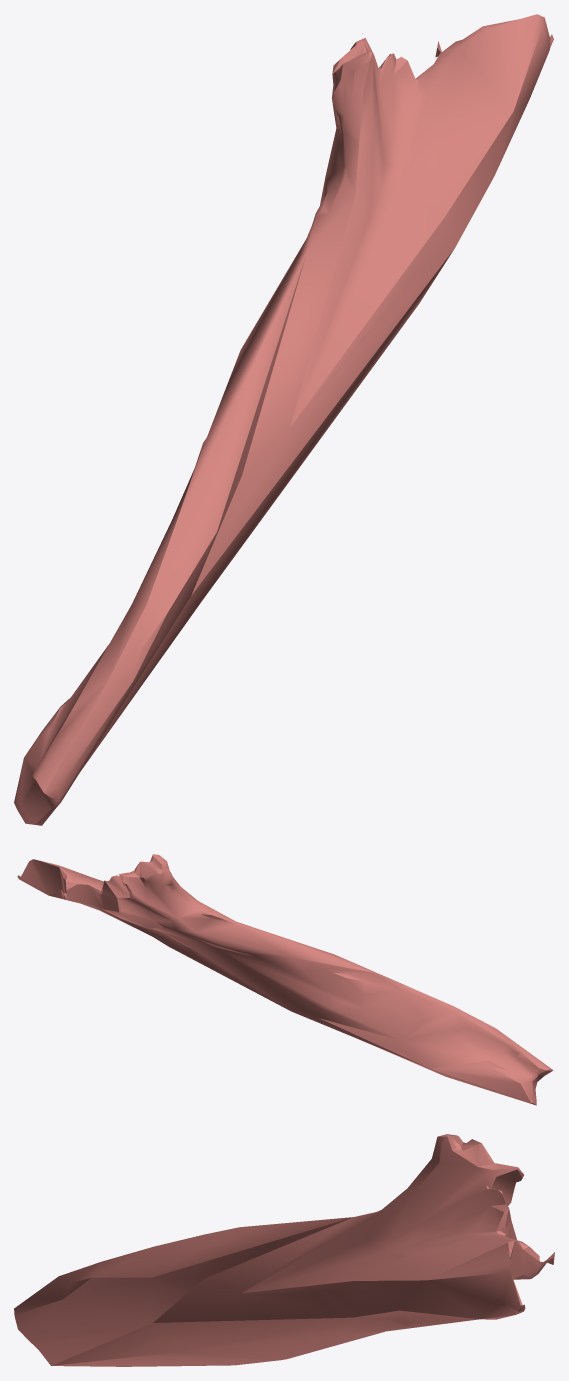
The model's file is fma37389_fj1469.glb.
The picture shows the model from 3 angles, top to bottom: view 1: azimuth 30°, elevation 25°; view 2: azimuth 150°, elevation 25°; view 3: azimuth 270°, elevation 25°; orthographic projection. The views are drawn at different scales.
Parts seen in each view (by area): view 1: FMA37389_FJ1469; view 2: FMA37389_FJ1469; view 3: FMA37389_FJ1469.
Boxes of the visible parts, x1=… form: FMA37389_FJ1469: x1=14, y1=14, x2=553, y2=825; FMA37389_FJ1469: x1=17, y1=854, x2=553, y2=1105; FMA37389_FJ1469: x1=14, y1=1134, x2=554, y2=1366.
Bounding box in the file's own units: 0.0452 × 0.0275 × 0.0279.
